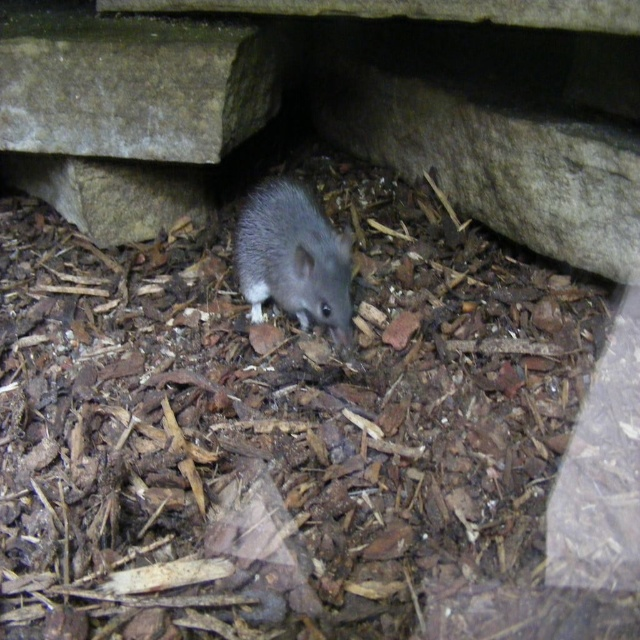Mouse: (231, 171, 368, 346)
